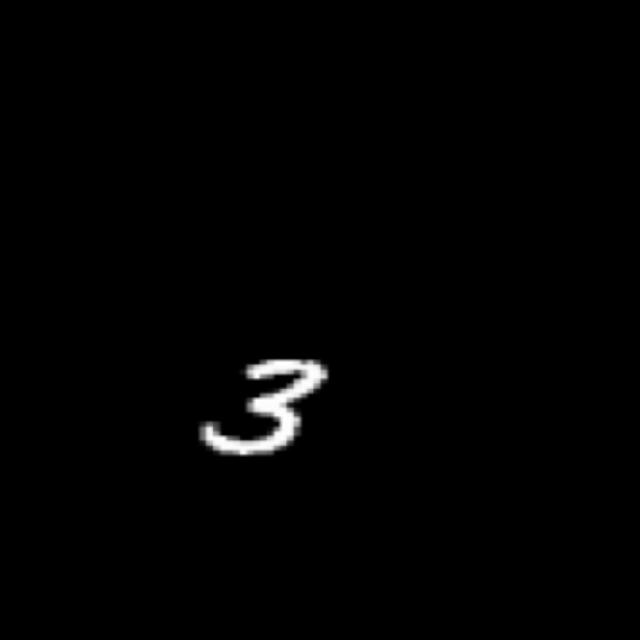three -3-: (187, 343, 335, 462)
